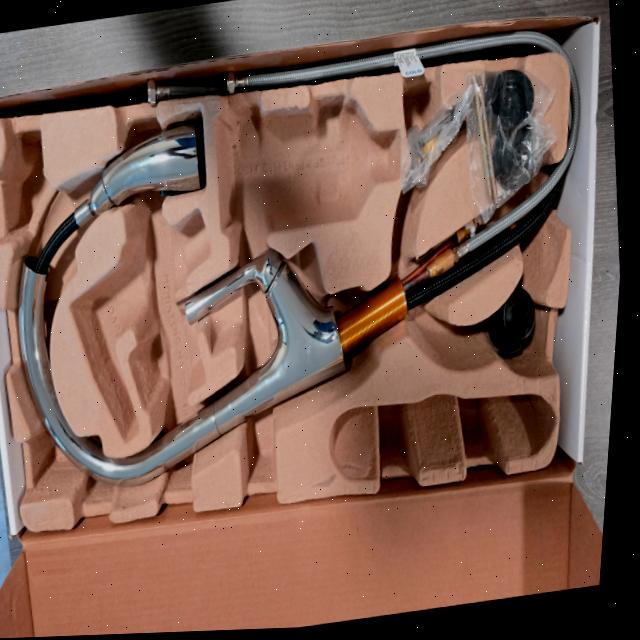1: (19, 119, 567, 485)
2m: (70, 205, 212, 437)
3m: (217, 93, 399, 227)
4m: (329, 391, 557, 476)
5: (487, 284, 537, 358)
6: (399, 84, 479, 194)
7: (464, 68, 560, 228)
